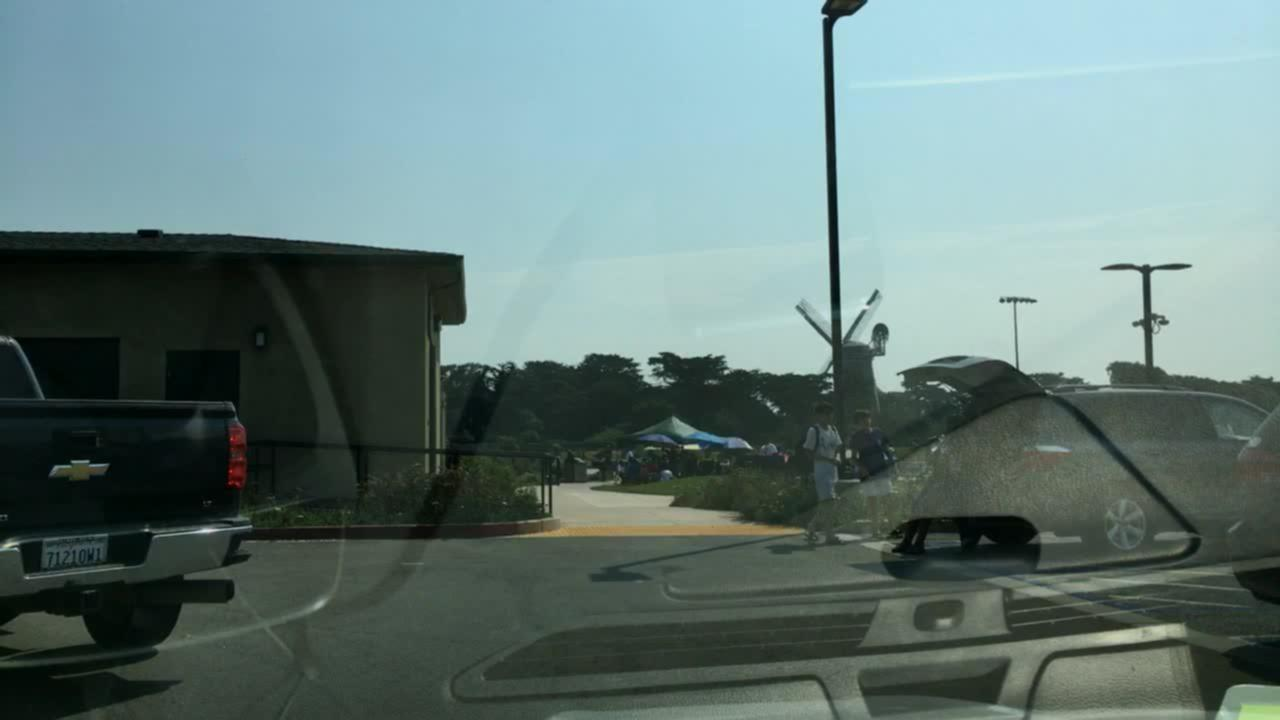chevrolet: (25, 444, 143, 489)
